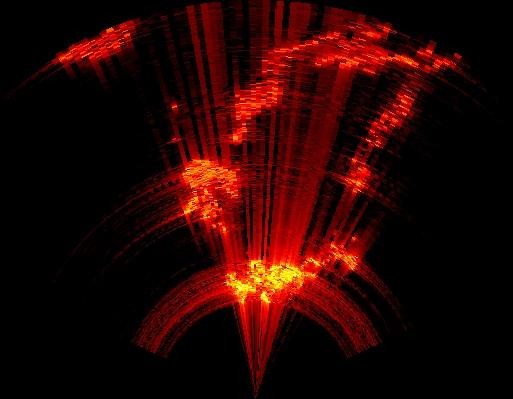shipwreck: (232, 27, 455, 143), (226, 244, 361, 303), (181, 160, 240, 233), (364, 94, 415, 150), (342, 155, 369, 193)
